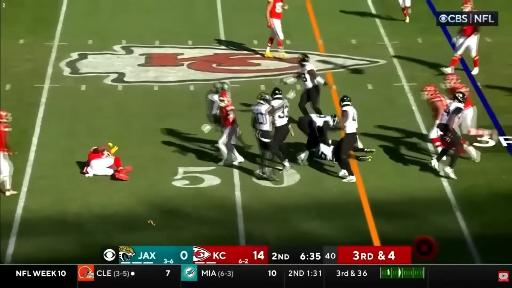Helmet: (422, 84, 438, 99), (444, 74, 460, 88), (452, 84, 469, 96), (218, 91, 231, 106), (78, 266, 94, 278), (214, 82, 229, 93), (298, 54, 310, 67), (257, 92, 271, 103), (453, 92, 466, 103), (462, 0, 474, 11), (0, 110, 11, 122), (271, 87, 282, 99), (340, 96, 351, 106), (298, 54, 310, 63), (331, 114, 339, 127), (102, 150, 111, 157)
Jersey: (449, 84, 474, 109), (270, 98, 289, 127), (252, 103, 271, 131), (429, 95, 448, 121), (440, 102, 463, 123), (299, 63, 316, 88), (342, 106, 357, 133), (220, 104, 235, 127), (0, 123, 11, 153), (88, 148, 111, 162), (316, 144, 334, 160), (310, 114, 334, 126), (270, 0, 284, 19), (208, 94, 219, 114), (460, 26, 478, 37)
Player: (431, 92, 466, 179), (444, 74, 493, 136), (445, 74, 491, 135), (297, 115, 338, 164), (251, 93, 274, 180), (422, 85, 451, 154), (218, 92, 244, 165), (297, 54, 327, 115), (442, 25, 479, 74), (422, 84, 448, 153), (270, 87, 291, 172), (83, 146, 132, 180), (339, 96, 358, 182), (0, 110, 17, 195), (202, 82, 230, 133), (203, 82, 229, 132), (265, 0, 287, 58), (314, 140, 342, 163), (399, 0, 410, 22)
